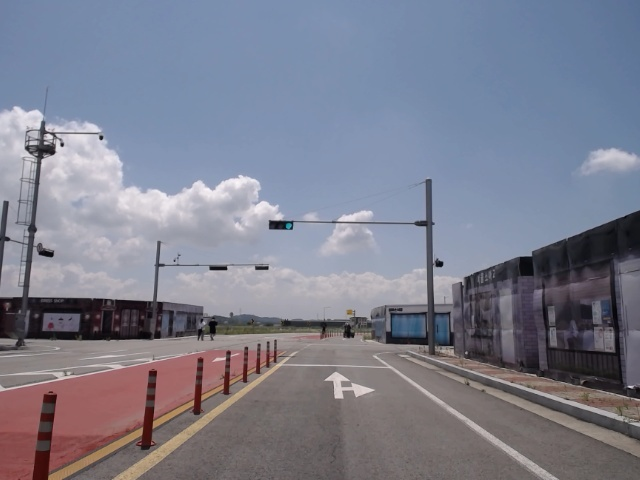green_3: (270, 220, 294, 230)
